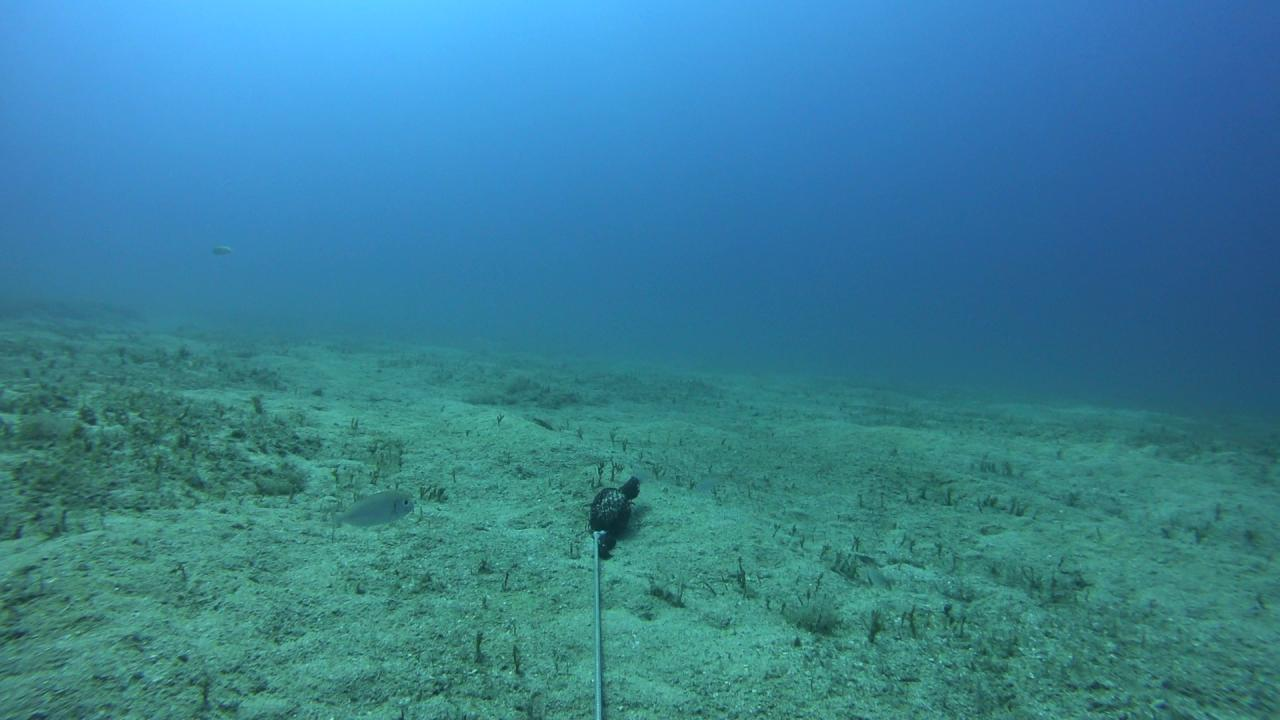pagellus: (329, 488, 415, 540)
